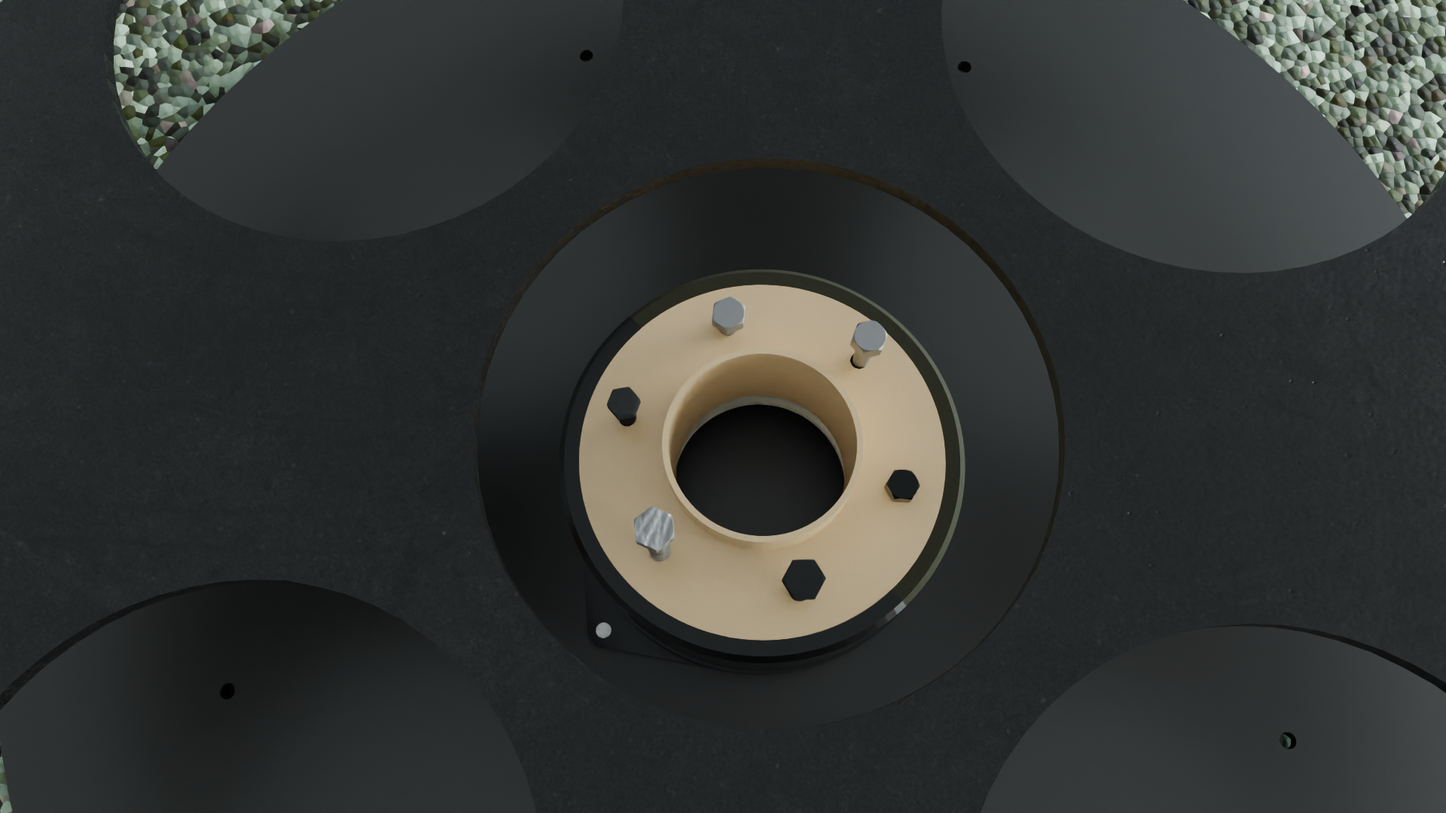bolt: (634, 507, 674, 550), (782, 559, 826, 598), (712, 297, 746, 330), (852, 321, 887, 353), (886, 470, 920, 500), (607, 387, 639, 417)
